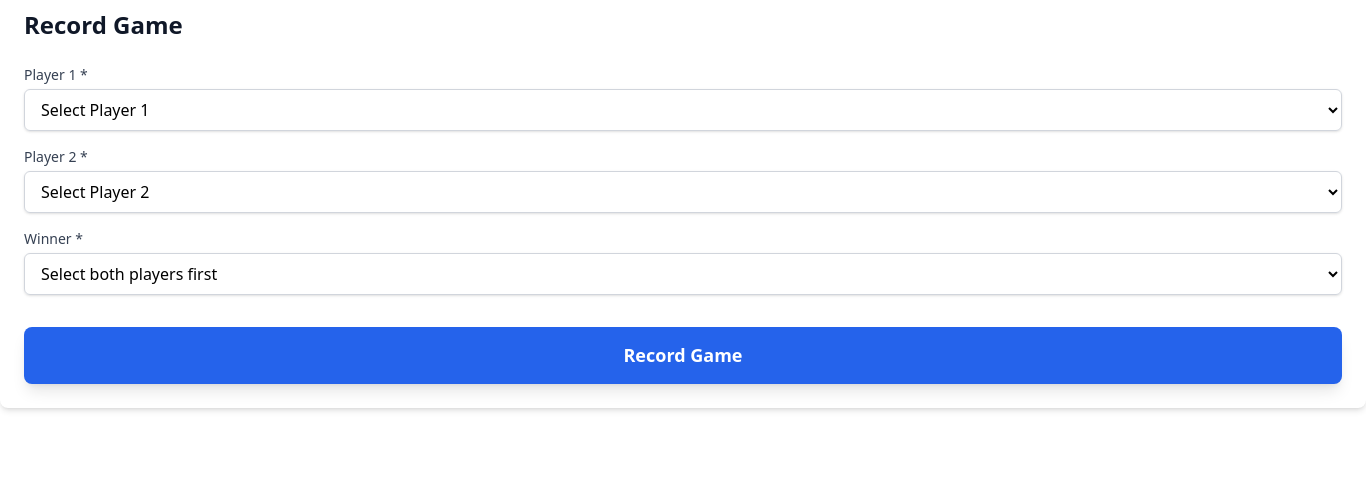
Test case: Error Boundary and Loading States Integration Tests › AddGameForm Error Boundaries › handles submission errors with graceful error display
The image size is (1366, 491).
Note: Fill and submit form
Select "Alice Johnson" in the dropdown labelled "Player 1 *" at (683, 110), box [24,89,1342,131]
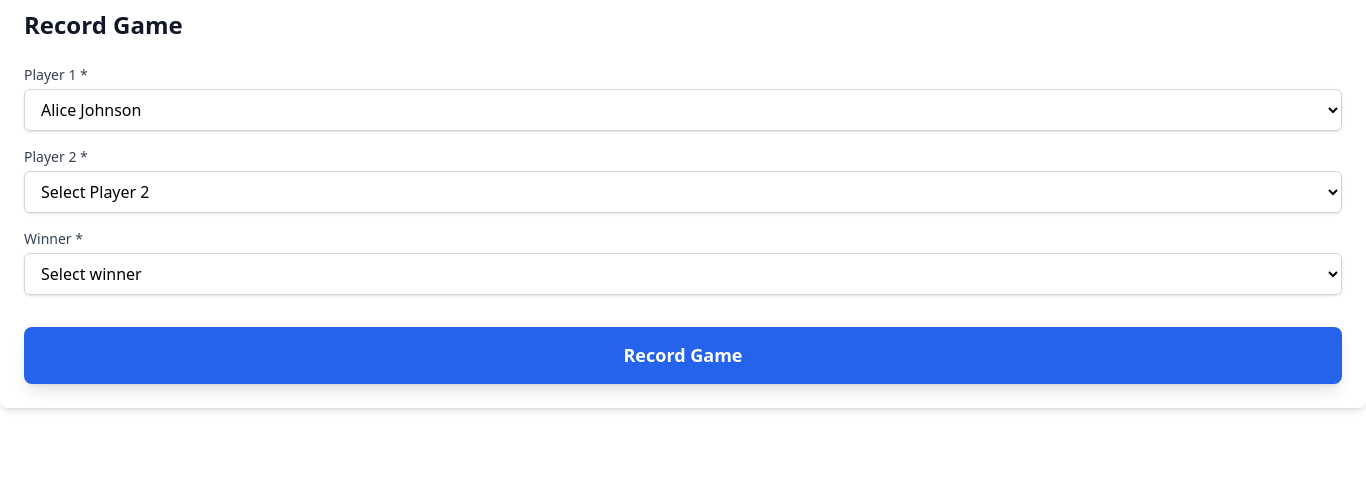
Select "Bob Smith" in the dropdown labelled "Player 2 *" at (683, 192), box [24,171,1342,213]
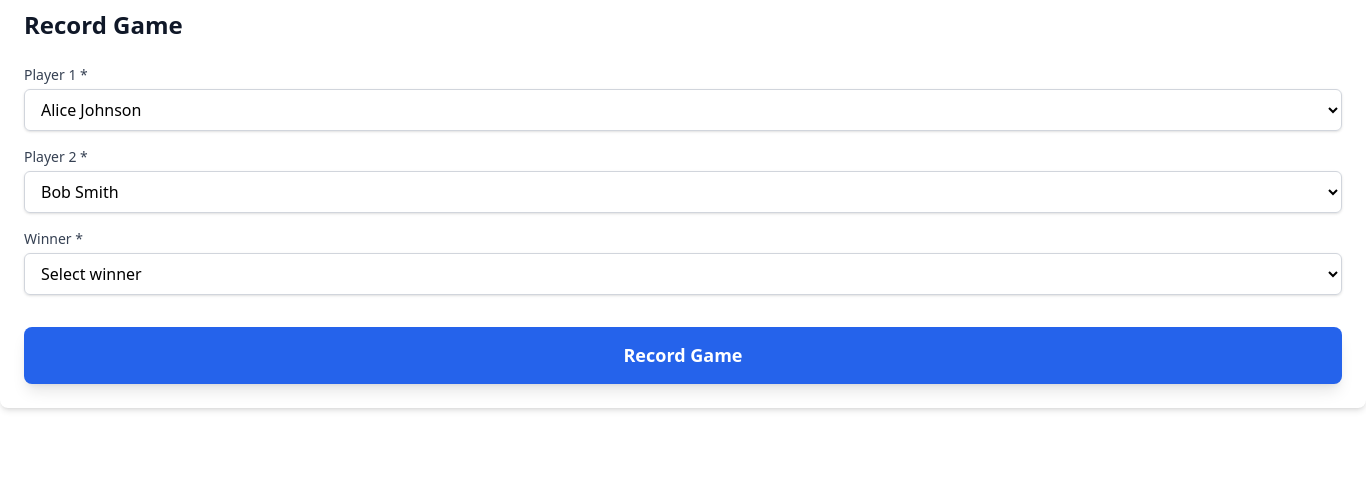
Select "Alice Johnson" in the dropdown labelled "Winner *" at (683, 274), box [24,253,1342,295]
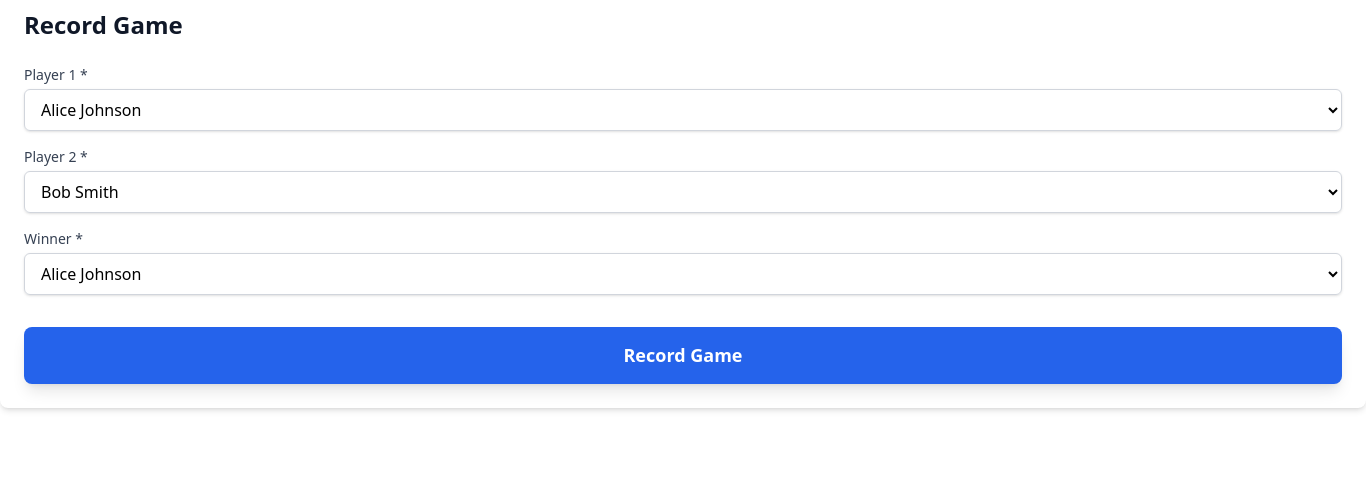
Click the button "Record Game" at (683, 355), box [24,327,1342,384]
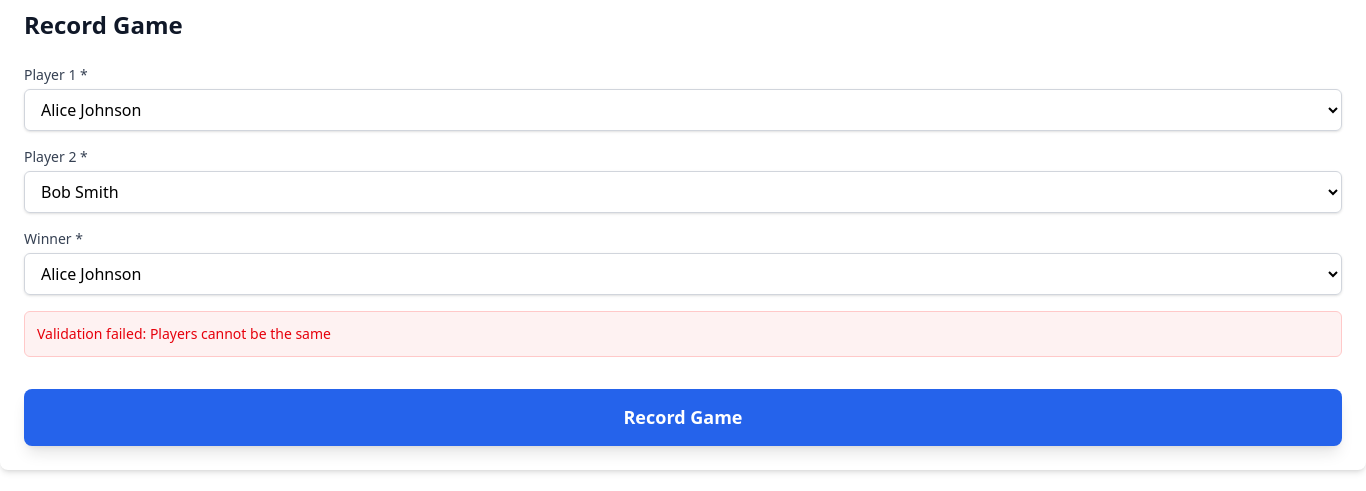
Check: the text "Validation failed: Players cannot be the same" is shown, box [37,324,331,343]
